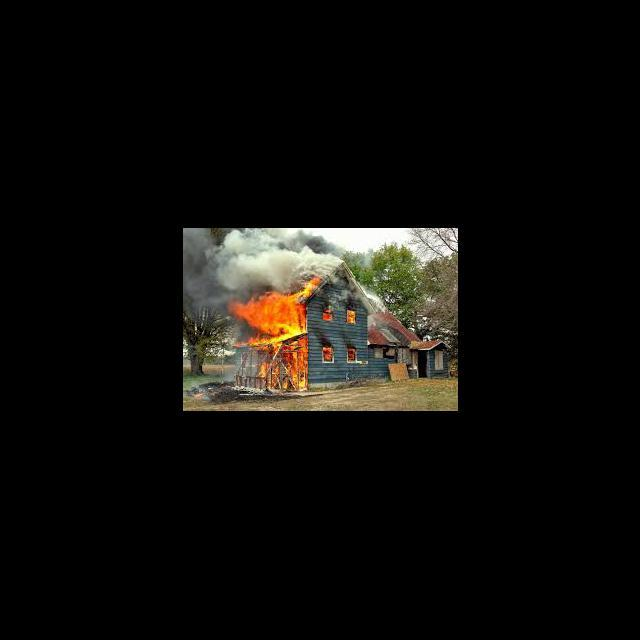Fire: (226, 279, 324, 349), (256, 352, 309, 394), (344, 347, 358, 362), (322, 349, 334, 362), (346, 310, 356, 323), (322, 308, 332, 320)
Smoke: (222, 228, 338, 278), (183, 228, 220, 310), (336, 280, 386, 306), (184, 376, 207, 404), (368, 310, 384, 327)
